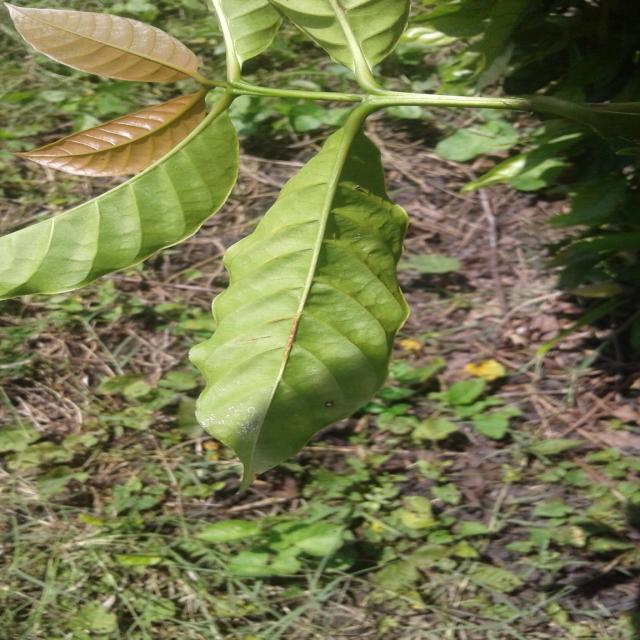Enfermedad-Roya: (190, 106, 408, 491)
